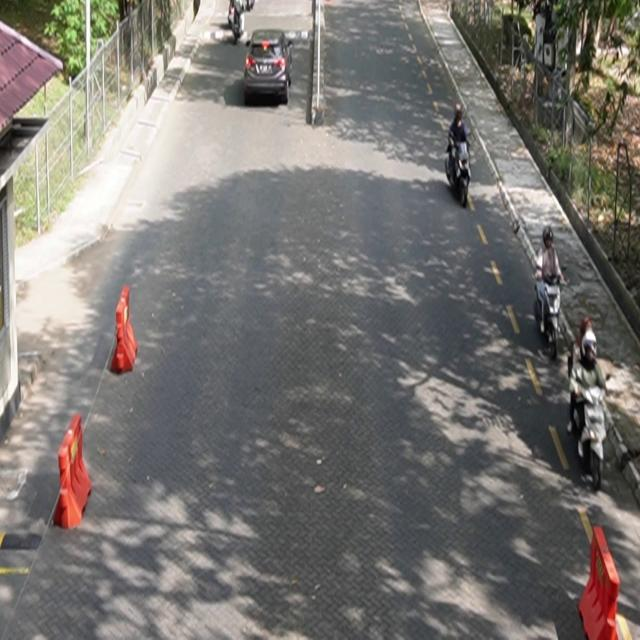car: (244, 29, 294, 106)
